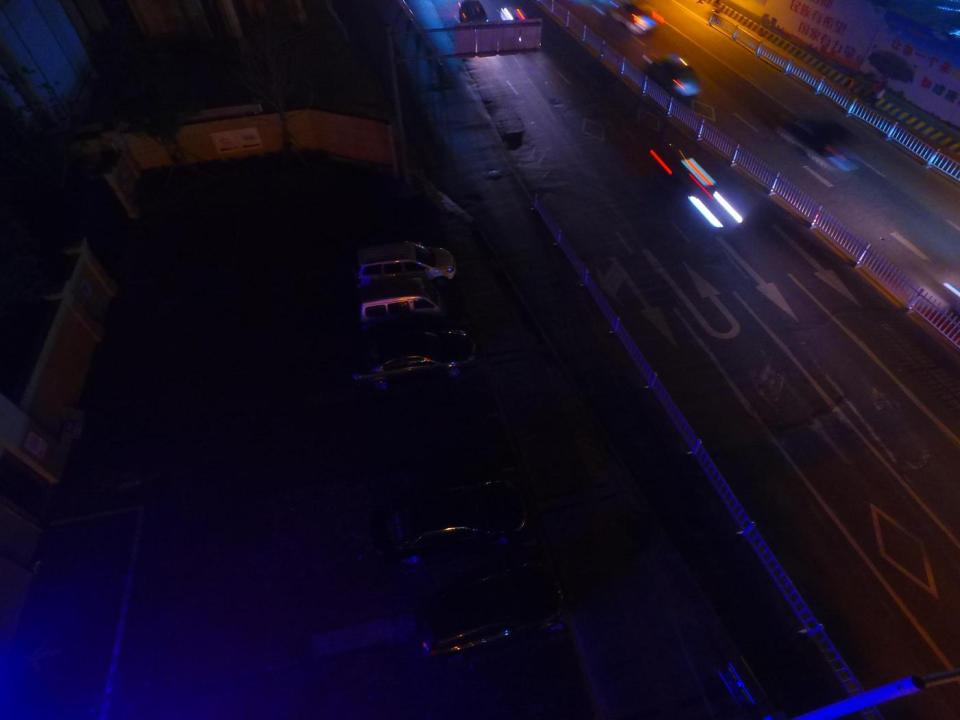car: (402, 580, 571, 667), (346, 349, 467, 392), (358, 236, 454, 282), (358, 258, 444, 298), (358, 327, 465, 359), (650, 53, 702, 97), (608, 1, 658, 36), (458, 0, 488, 26)
van: (352, 290, 444, 332)
